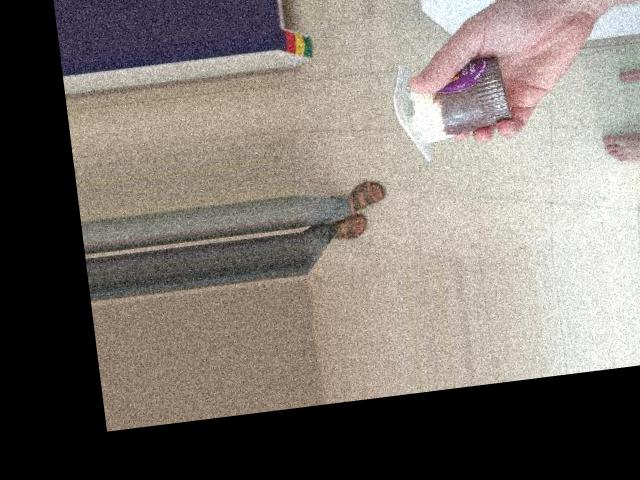milky: (385, 66, 505, 155)
